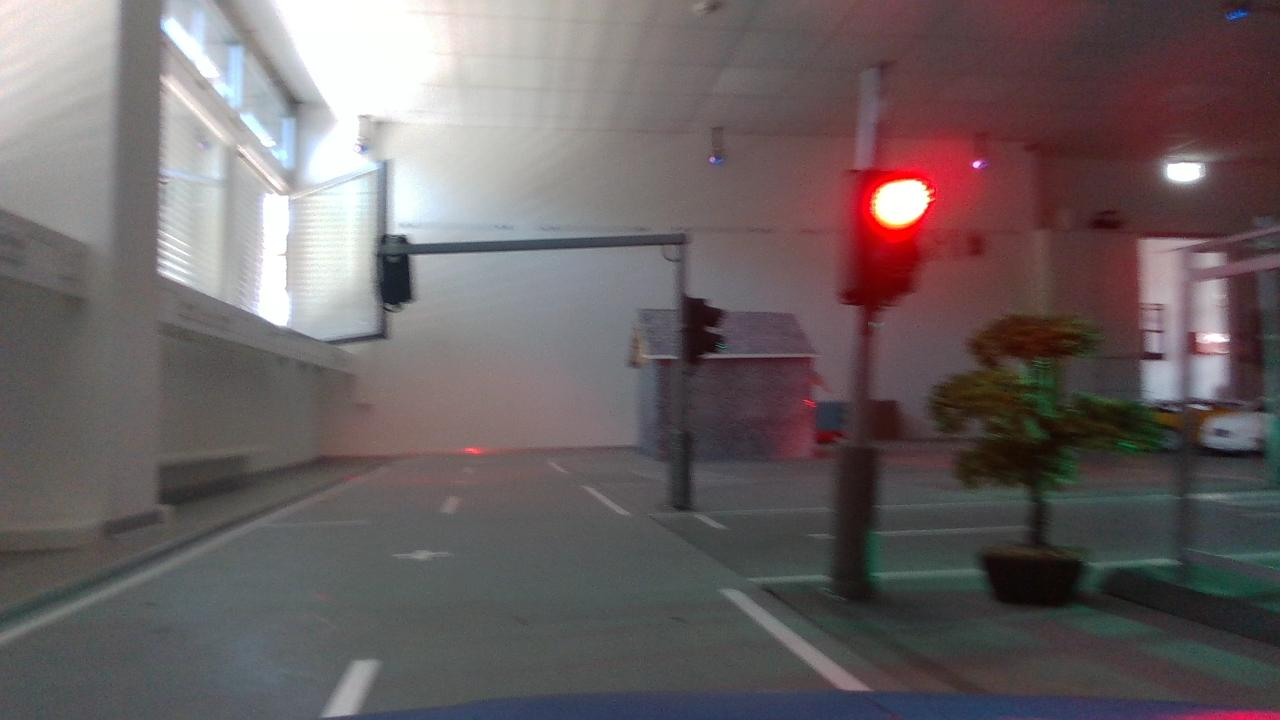traffic_light_red: (829, 157, 941, 315)
